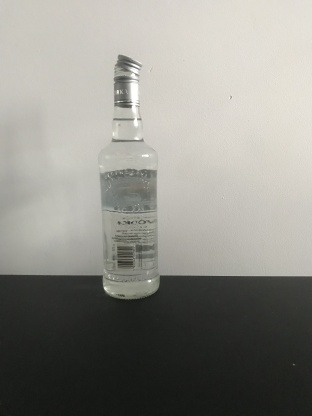nakretka: (112, 51, 143, 108)
